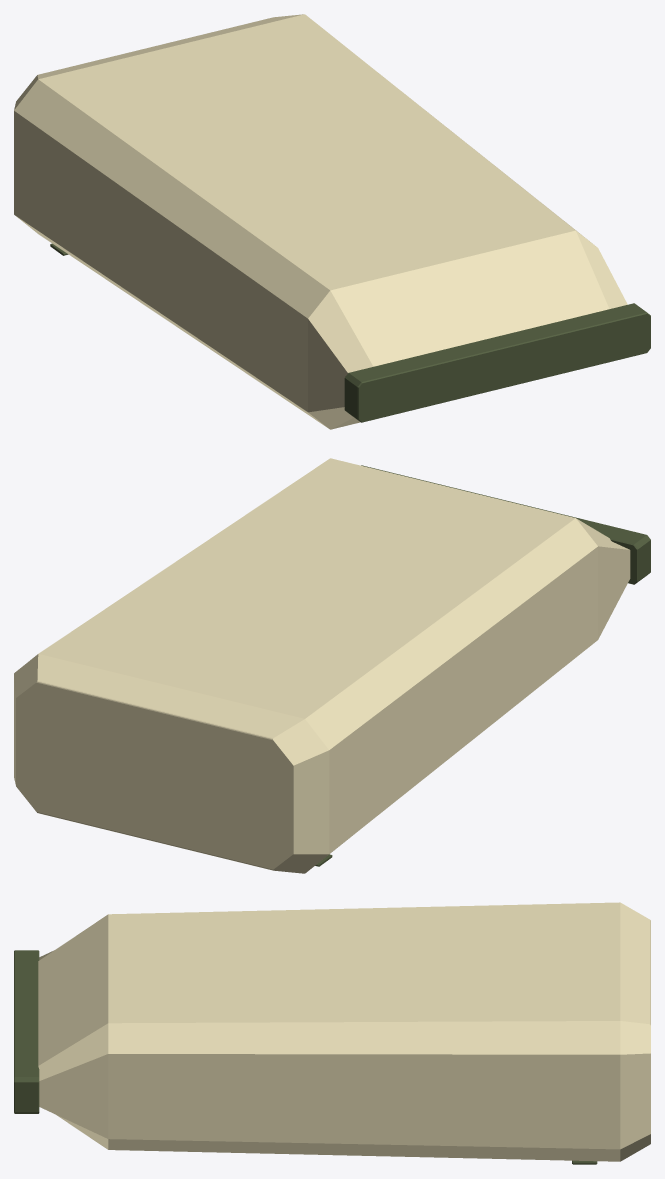
Rendered from plant_food.glb.
The picture shows the model from 3 angles, top to bottom: view 1: azimuth 30°, elevation 25°; view 2: azimuth 150°, elevation 25°; view 3: azimuth 270°, elevation 25°; orthographic projection. The views are drawn at different scales.
Visible parts, largest first — view 1: plant_food; view 2: plant_food; view 3: plant_food.
Part boxes in pixels (<box>): plant_food: <box>14,14,650,429</box>; plant_food: <box>14,458,650,873</box>; plant_food: <box>14,902,650,1164</box>.
Size of the model in its own units: 0.13 by 0.0631 by 0.25.
